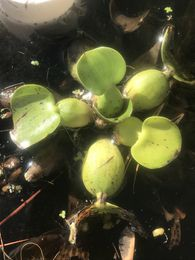water_hyacinth: (9, 46, 184, 195)
